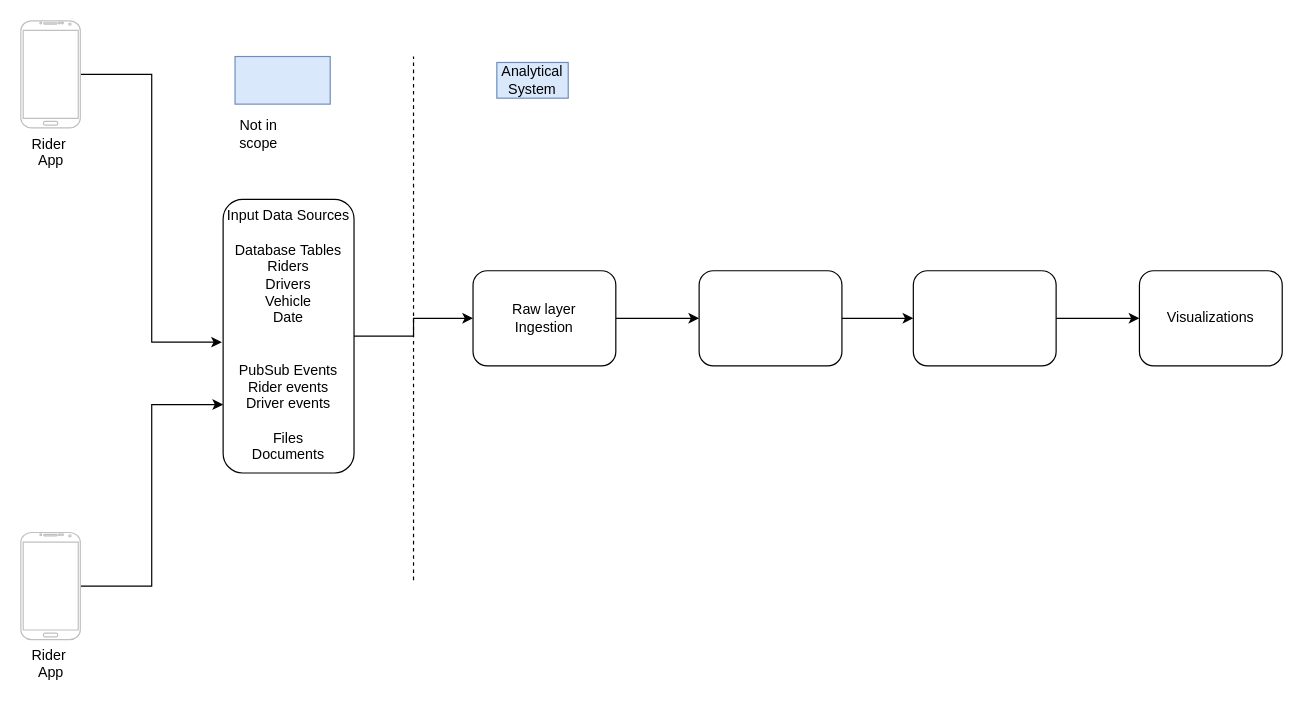
Image size: 1303x720. Some labels were removed from this diagram. Here are the shapes that lost their labels. From the top down, the centre of each, then its label:
At (x=282, y=79): "Transactional system".
At (x=770, y=318): "Business Logic".
At (x=984, y=318): "Output table DWH".
